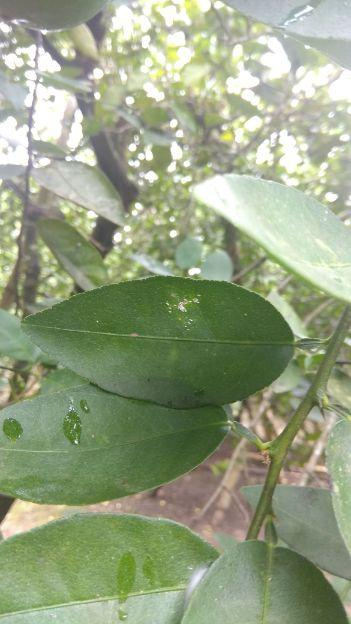Myzus persicae: (163, 296, 204, 330)
